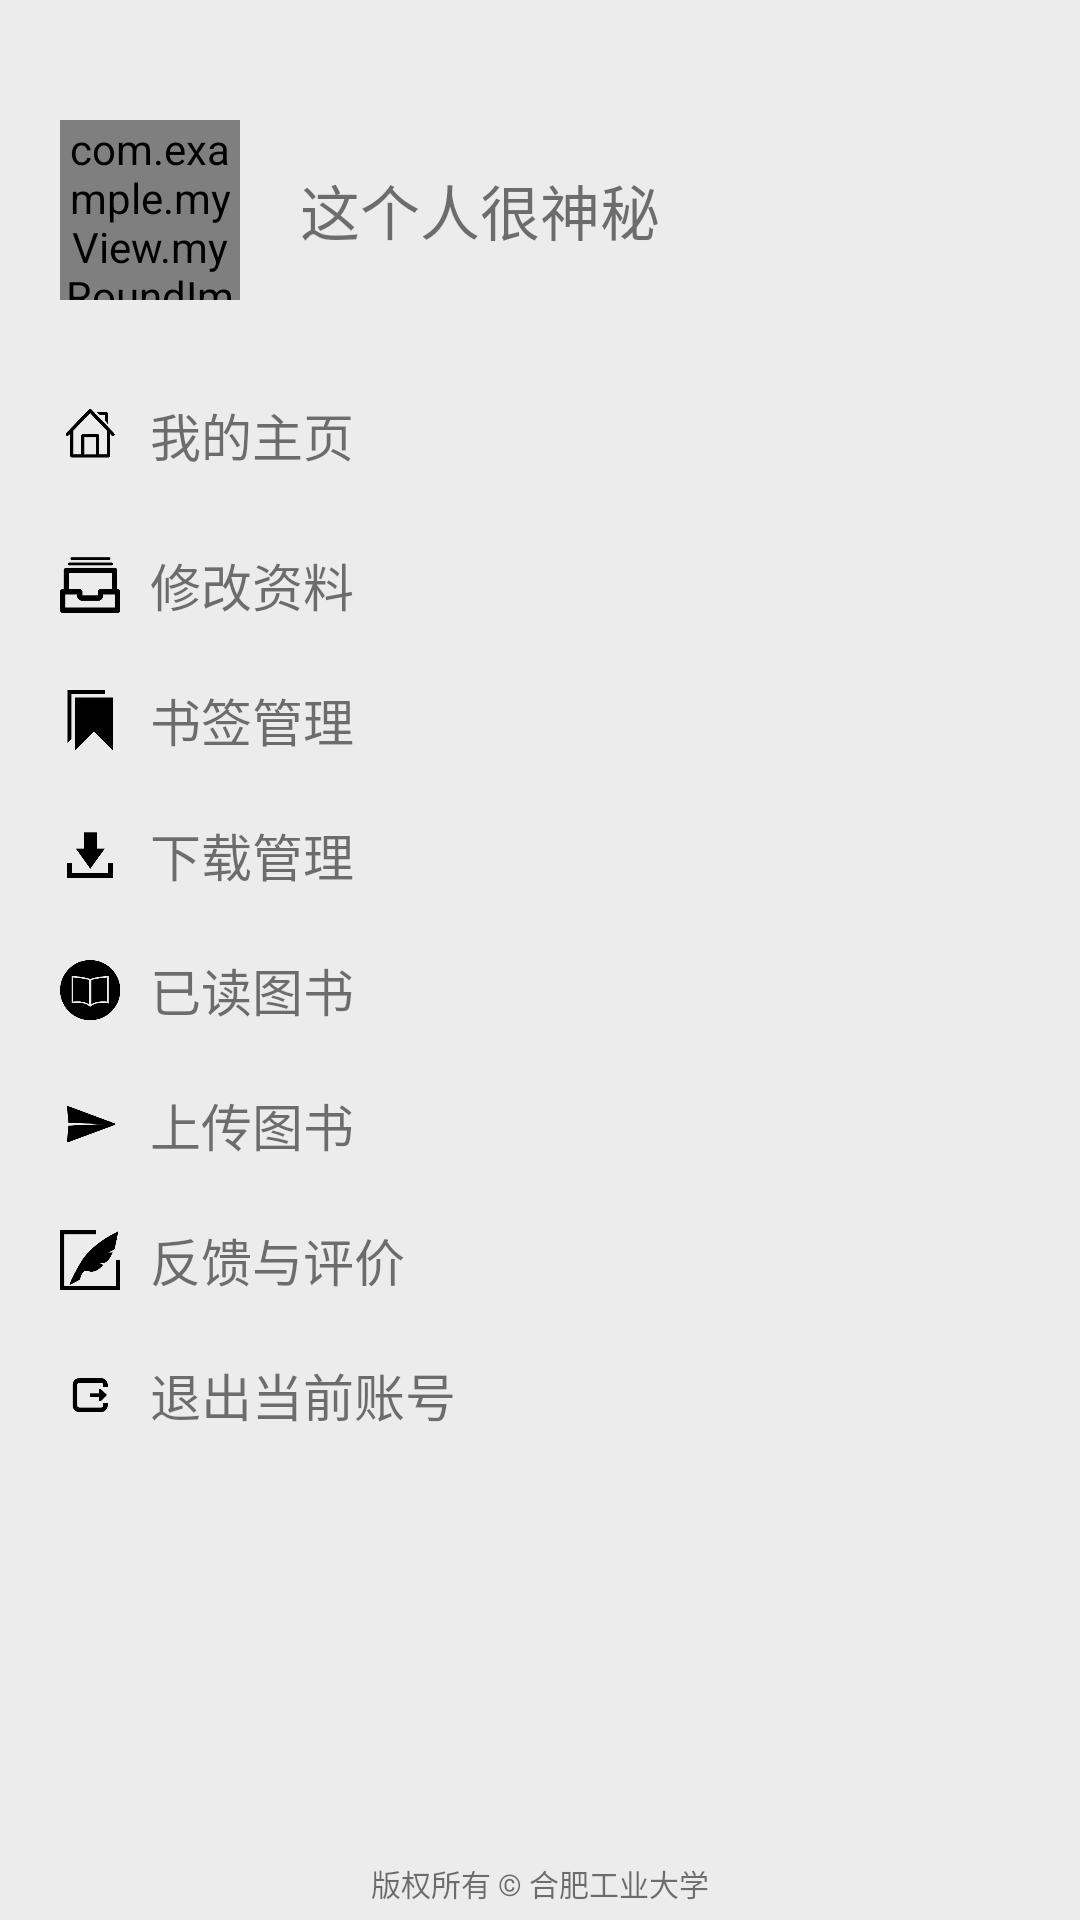

Icons on this 1080 × 1920 Android screen, each with its box as [left=x1, top=y1, right=x2, bottom=y2]:
bookmark: [left=67, top=690, right=113, bottom=750]
download: [left=67, top=832, right=113, bottom=878]
homepage: [left=66, top=409, right=115, bottom=458]
readbook: [left=60, top=960, right=120, bottom=1020]
remark: [left=60, top=1230, right=120, bottom=1290]
upload: [left=67, top=1106, right=115, bottom=1142]
